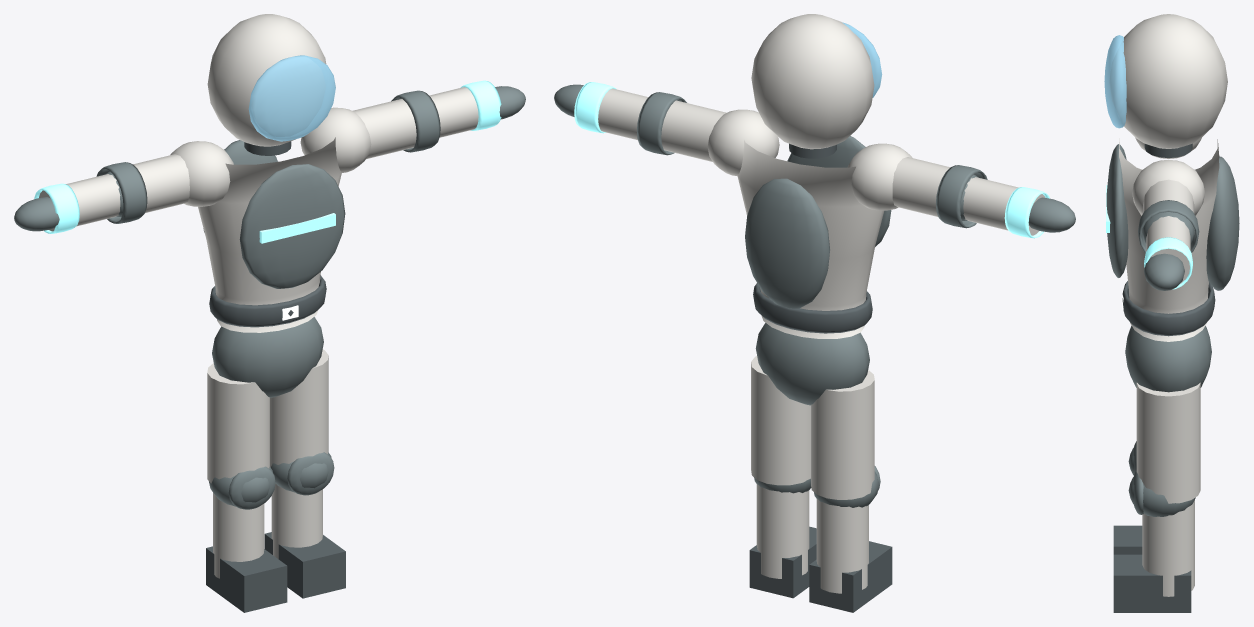
File: original-player-b.glb
3 renders of one model, left to right at view 1: azimuth 30°, elevation 25°; view 2: azimuth 150°, elevation 25°; view 3: azimuth 270°, elevation 25°, orthographic.
Parts seen in each view (by area): view 1: SoftChestPlate, TorsoShell, HelmetShell, PelvisShell, UpperLeg_L, VisorLens, UpperLeg_R, Boot_L, Boot_R, LowerLeg_L, LowerLeg_R, Shoulder_R (+18 smaller); view 2: HelmetShell, TorsoShell, SoftBackpack, UpperLeg_L, PelvisShell, UpperLeg_R, LowerLeg_R, LowerLeg_L, Shoulder_R, Boot_L, Shoulder_L, UtilityBelt (+11 smaller); view 3: HelmetShell, UpperLeg_R, TorsoShell, PelvisShell, LowerLeg_R, Boot_R, SoftBackpack, UtilityBelt, SoftChestPlate, Shoulder_R, VisorLens, Forearm_R (+9 smaller).
Boxes of the visible parts, x1,y1,x2,y2 form: SoftChestPlate: [239, 164, 345, 288]; TorsoShell: [198, 137, 341, 332]; HelmetShell: [207, 14, 326, 146]; PelvisShell: [212, 317, 323, 397]; UpperLeg_L: [207, 363, 269, 483]; VisorLens: [248, 55, 335, 141]; UpperLeg_R: [270, 349, 328, 467]; Boot_L: [206, 546, 287, 612]; Boot_R: [264, 532, 345, 598]; LowerLeg_L: [213, 493, 264, 578]; LowerLeg_R: [271, 484, 322, 558]; Shoulder_R: [300, 107, 371, 172]; HelmetShell: [751, 14, 874, 149]; TorsoShell: [737, 140, 883, 338]; SoftBackpack: [745, 178, 829, 308]; UpperLeg_L: [811, 370, 874, 499]; PelvisShell: [755, 323, 869, 405]; UpperLeg_R: [751, 356, 810, 485]; LowerLeg_R: [756, 484, 809, 578]; LowerLeg_L: [816, 499, 868, 593]; Shoulder_R: [707, 109, 779, 176]; Boot_L: [809, 541, 892, 612]; Shoulder_L: [847, 143, 912, 210]; UtilityBelt: [753, 283, 872, 333]; HelmetShell: [1123, 14, 1227, 148]; UpperLeg_R: [1136, 382, 1200, 503]; TorsoShell: [1119, 138, 1219, 341]; PelvisShell: [1125, 325, 1211, 392]; LowerLeg_R: [1142, 500, 1194, 596]; Boot_R: [1113, 554, 1191, 612]; SoftBackpack: [1206, 156, 1239, 290]; UtilityBelt: [1122, 281, 1215, 336]; SoftChestPlate: [1106, 144, 1128, 277]; Shoulder_R: [1132, 160, 1204, 215]; VisorLens: [1104, 35, 1126, 128]; Forearm_R: [1146, 216, 1190, 283].
Size of the model in its own units: 2.6 by 2.75 by 0.5912.
